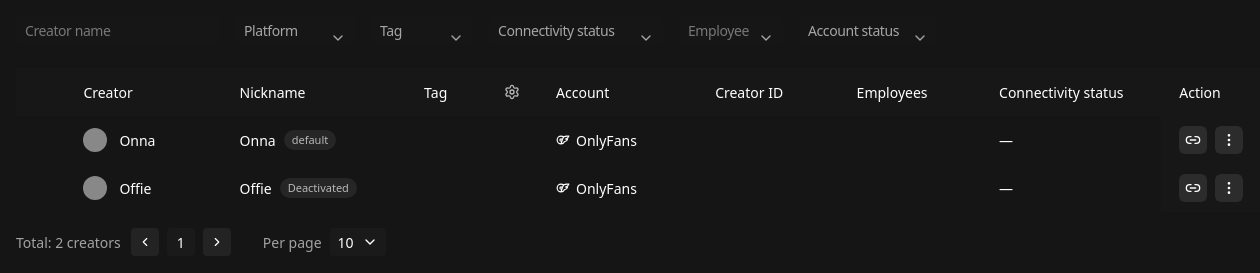
Test: AccountsTable — deactivate / activate a creator › filters on Account status
Select "Deactivated" in the dropdown named "Account status" at (868, 30), box [799, 16, 937, 44]
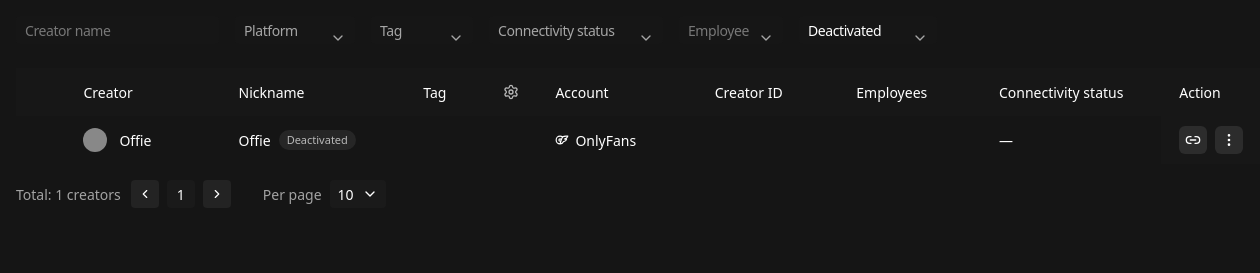
Expected: the 1st text "Offie" is shown, [119, 130, 152, 150]
Now the text "Onna" is not shown
Select "Activated" in the dropdown named "Account status" at (868, 30), box [799, 16, 937, 44]
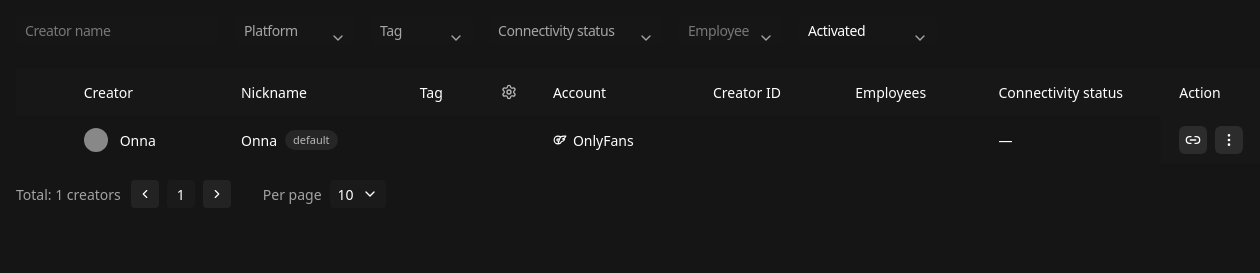
Now the text "Offie" is not shown
